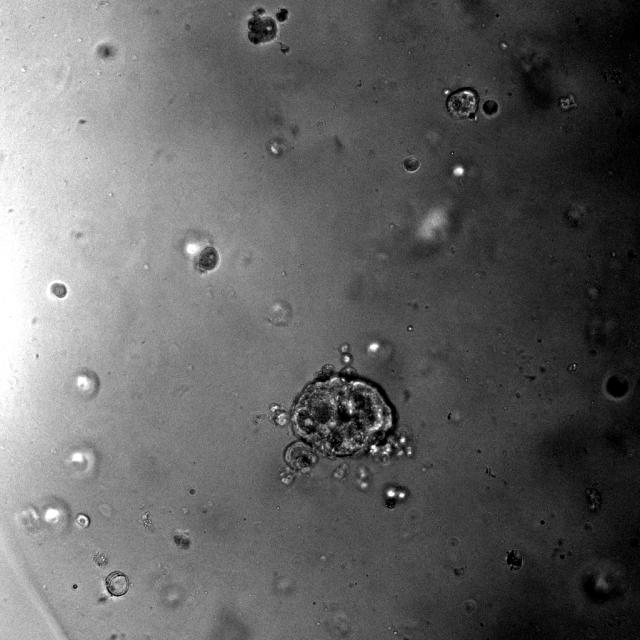organoid: (271, 343, 412, 485), (446, 87, 479, 119), (248, 8, 277, 44), (602, 372, 633, 401), (105, 570, 129, 596), (197, 247, 218, 271), (505, 550, 522, 570), (402, 155, 420, 173), (172, 530, 190, 548), (482, 100, 498, 115), (51, 282, 66, 298), (74, 513, 90, 528), (276, 8, 288, 22), (385, 498, 397, 509), (189, 488, 196, 495)
